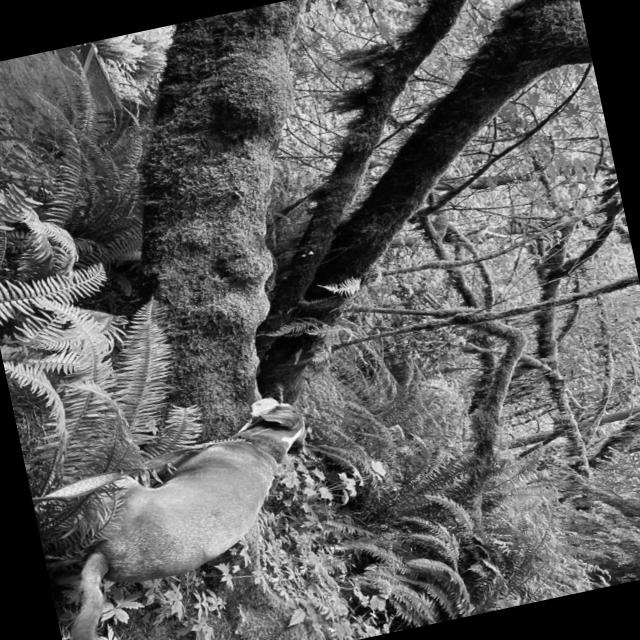squatting: (18, 382, 346, 640)
